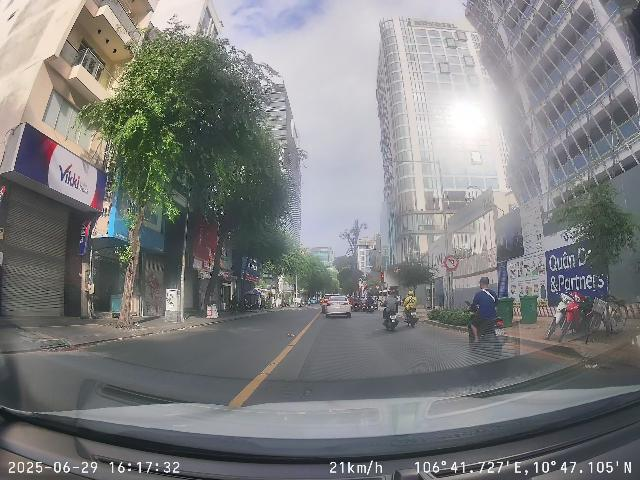123a-cam-re-trai: (444, 255, 459, 271)
